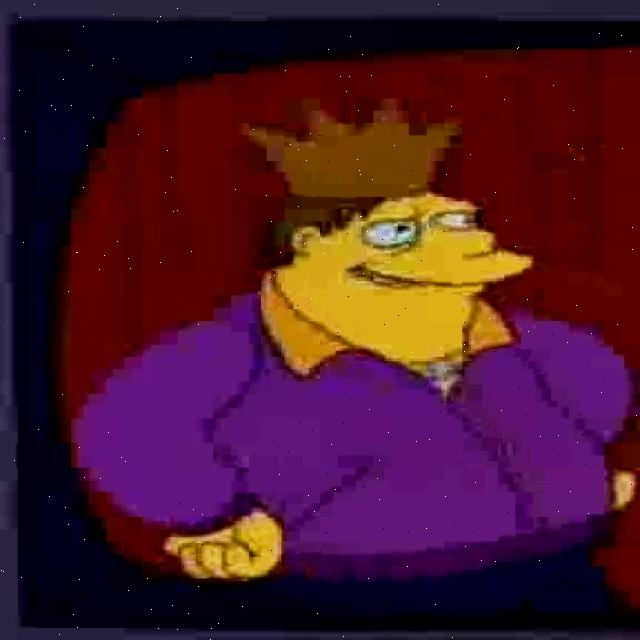Barney Gumble: (266, 188, 534, 348)
